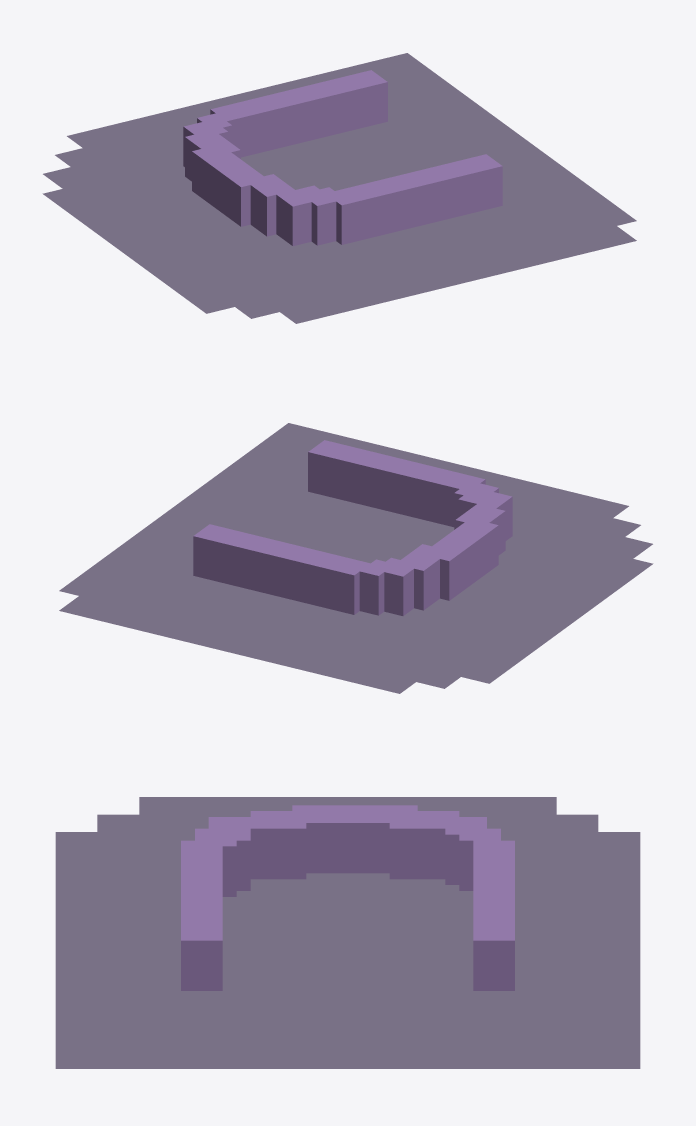
Rendered from T_PushBarrier.fbx.
3 renders of one model, top to bottom at view 1: azimuth 30°, elevation 25°; view 2: azimuth 150°, elevation 25°; view 3: azimuth 270°, elevation 25°, orthographic. The views are drawn at different scales.
Parts seen in each view (by area): view 1: Untitled; view 2: Untitled; view 3: Untitled.
Boxes of the visible parts, x1,y1,x2,y2 form: Untitled: (42,53,636,323); Untitled: (59,423,653,693); Untitled: (55,797,640,1068).
Size of the model in its own units: 4.8 by 1 by 4.8.
